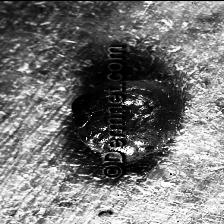Potentially Malignant Skin Tumors: (70, 80, 180, 164)
